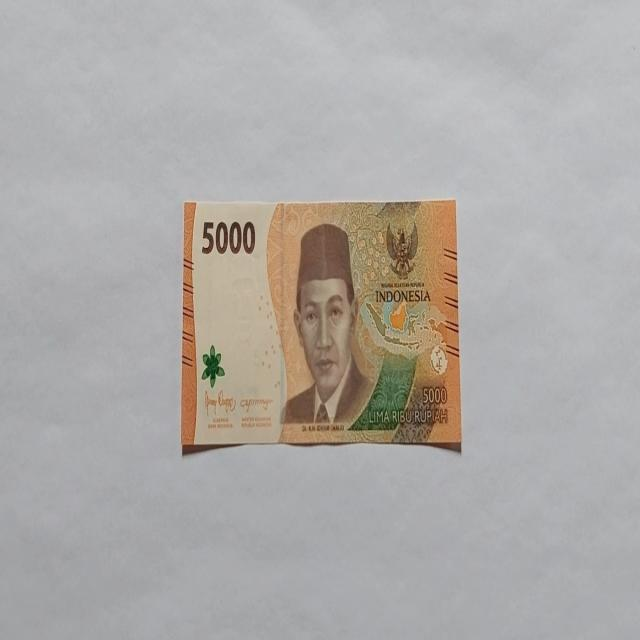lima ribu rupiah: (180, 197, 462, 455), (279, 221, 376, 431)
